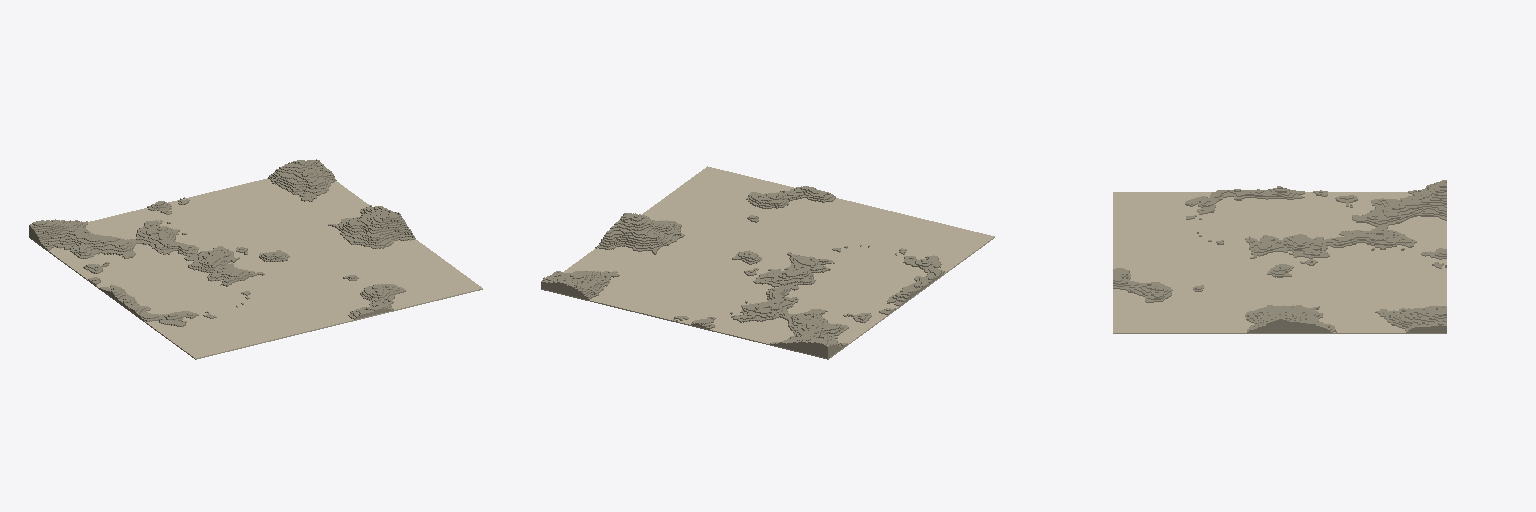
The picture shows the model from 3 angles: view 1: azimuth 30°, elevation 25°; view 2: azimuth 150°, elevation 25°; view 3: azimuth 270°, elevation 25°; orthographic projection.
Visible parts, largest first — view 1: object 1; view 2: object 1; view 3: object 1.
Part boxes in pixels (left/top/right/bottom): object 1: left=29, top=159, right=482, bottom=359; object 1: left=541, top=166, right=994, bottom=359; object 1: left=1113, top=180, right=1446, bottom=333.
Size of the model in its own units: 25.5 by 1.3 by 25.6.
1 materials, 1 textured.